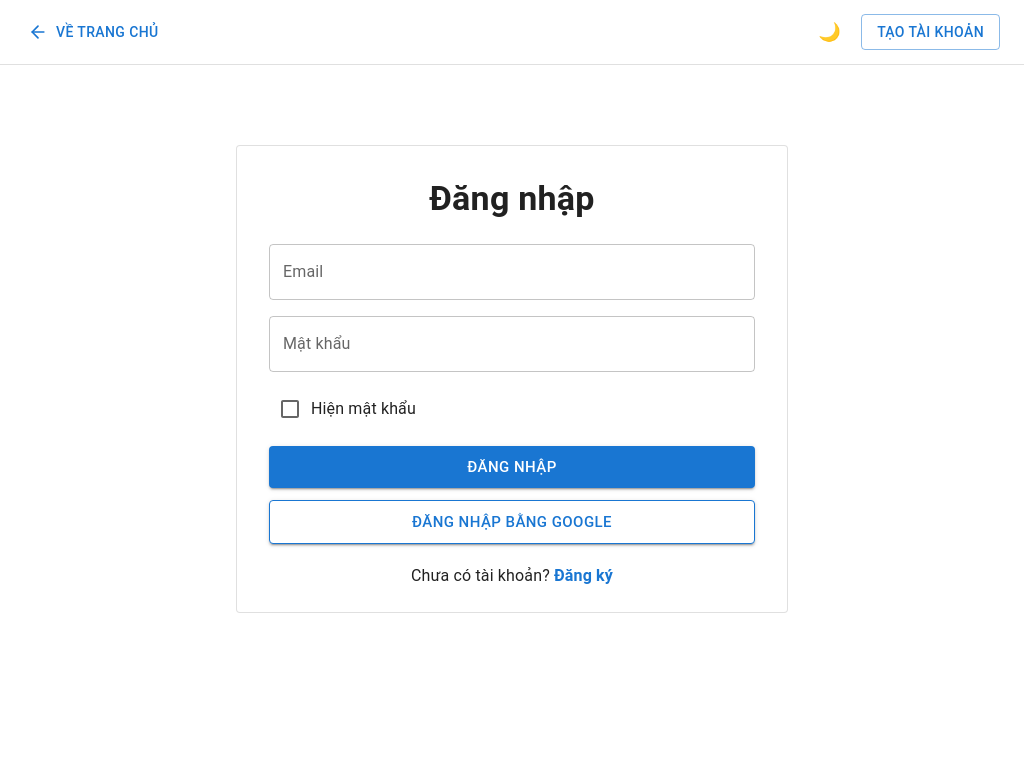
Scenario: LoginPage › displays Vietnamese error message from API on failure
This screenshot has width=1024, height=768.
Type "bad@test.com" into the field labelled "Email".
click(512, 272); type("bad@test.com")  # box [269,244,755,300]
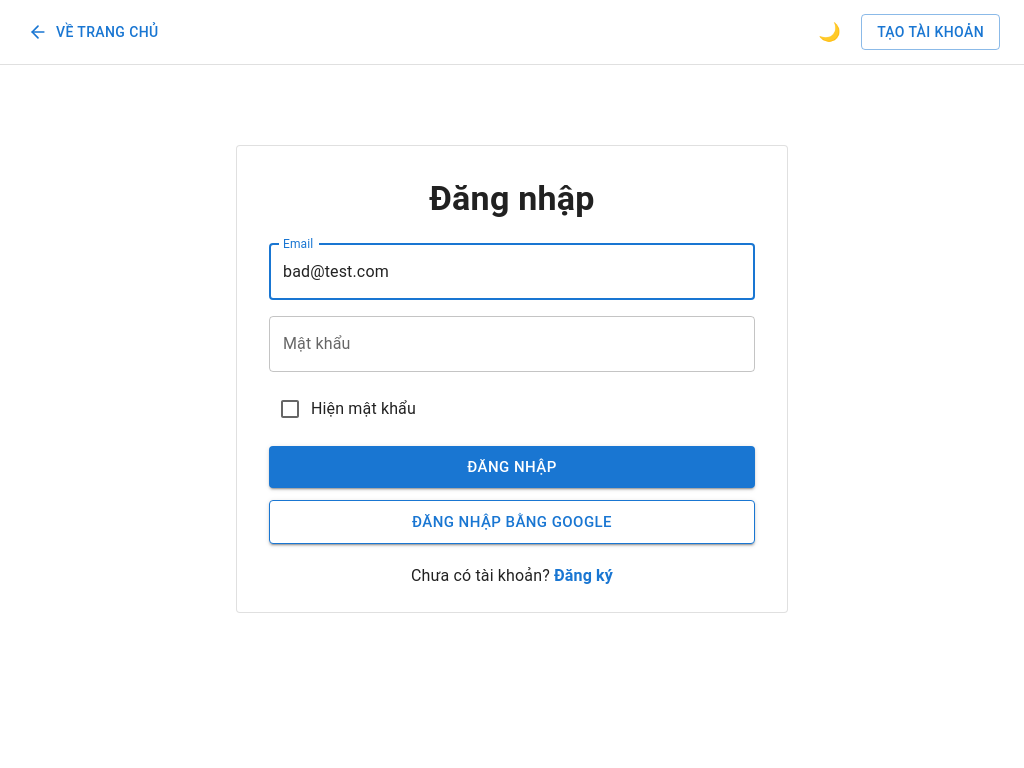
Type "wrong" into the password field labelled "Mật khẩu".
click(512, 344); type("wrong")  # box [269,316,755,372]
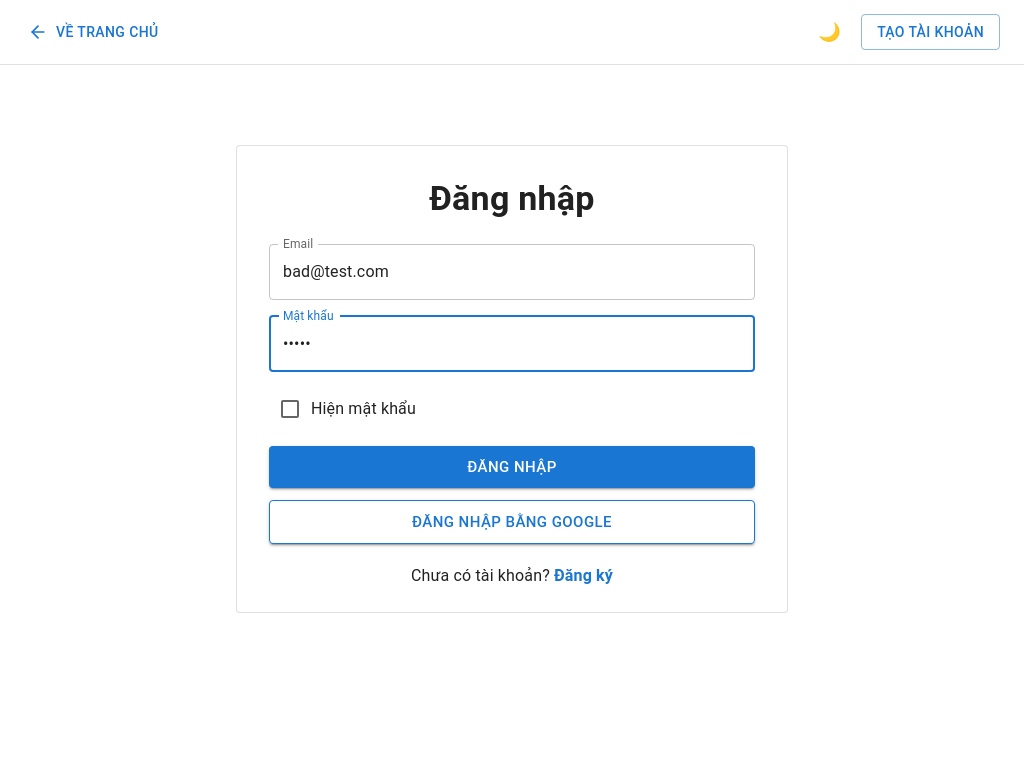
Click the button "Đăng nhập".
click(512, 467)  # box [269,446,755,488]
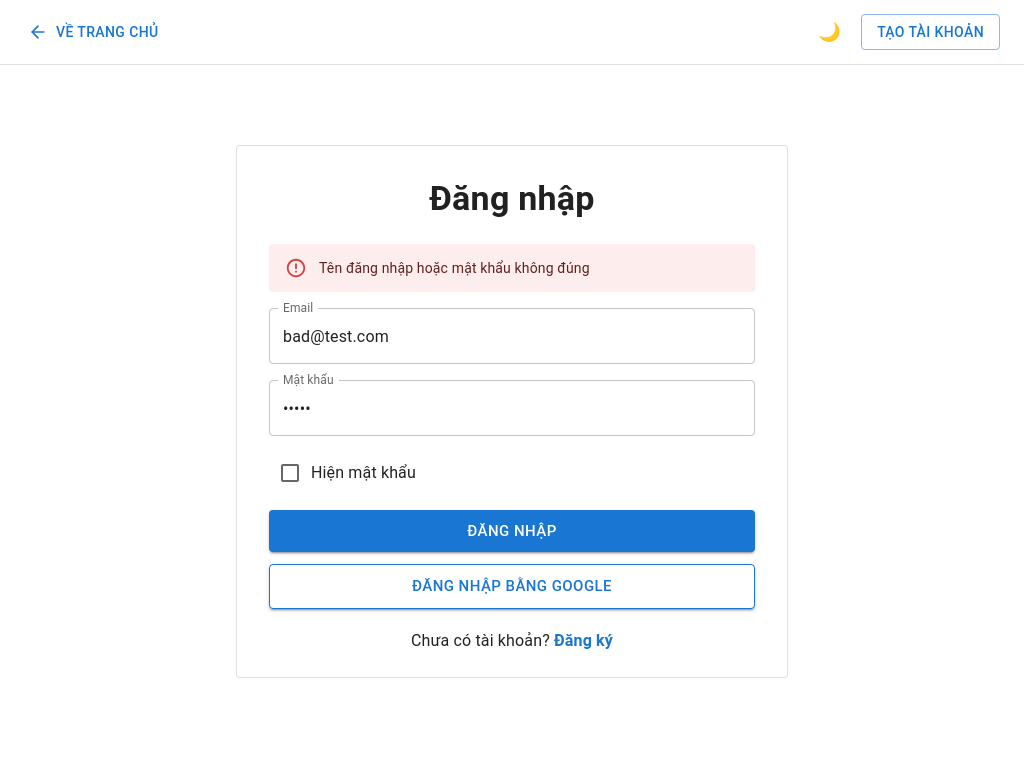
Check: the message reads "Tên đăng nhập hoặc mật khẩu không đúng", box [319,260,590,276]
